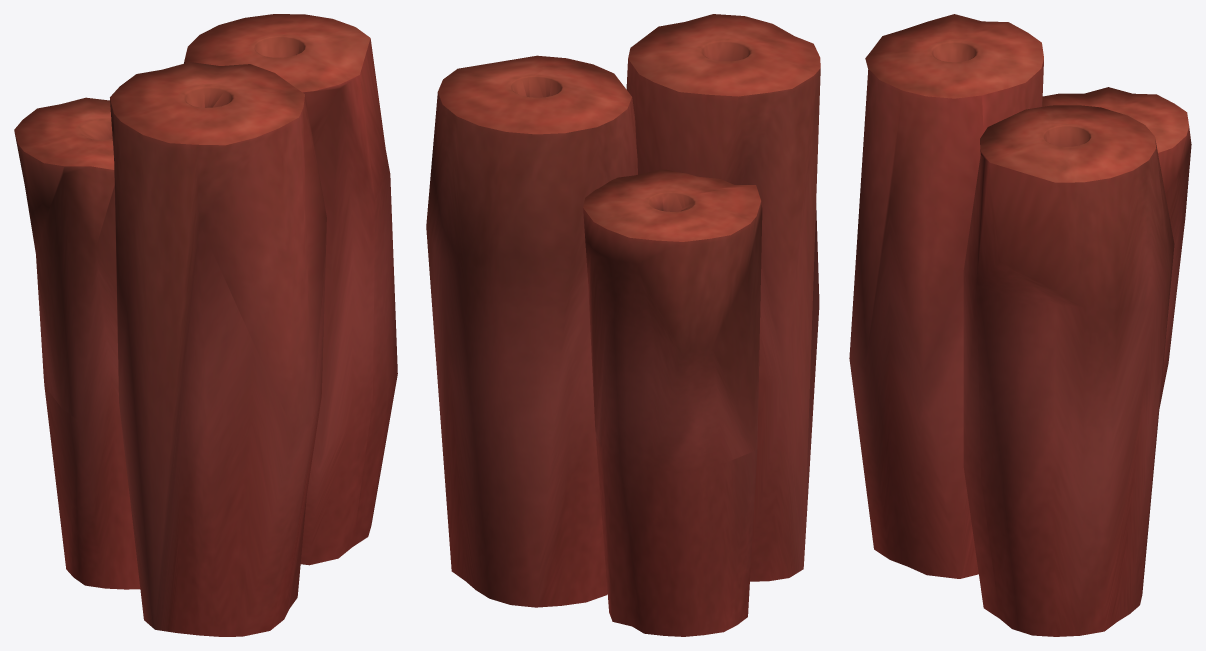
File: seaGrassCylinderRedv2.fbx
3 renders of one model, left to right at view 1: azimuth 30°, elevation 25°; view 2: azimuth 150°, elevation 25°; view 3: azimuth 270°, elevation 25°, orthographic. The views are drawn at different scales.
Visible parts, largest first — view 1: seaGrassCylinderRedv2; view 2: seaGrassCylinderRedv2; view 3: seaGrassCylinderRedv2.
Boxes of the visible parts, <box> form: seaGrassCylinderRedv2: <box>14,14,397,636</box>; seaGrassCylinderRedv2: <box>426,14,820,636</box>; seaGrassCylinderRedv2: <box>849,14,1191,636</box>.
Size of the model in its own units: 0.0738 by 0.1085 by 0.0688.
1 material, 1 textured.
